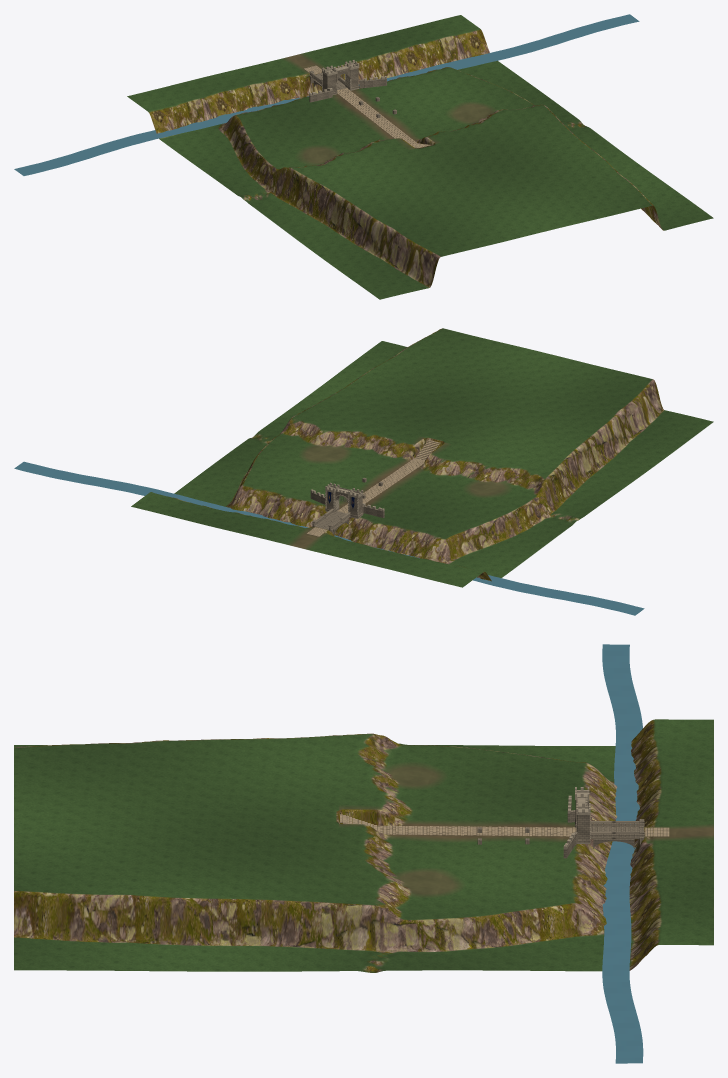
The model's file is ValoriaEntryZoneV5.glb.
3 views of the same model, one above another, from view 1: azimuth 30°, elevation 25°; view 2: azimuth 150°, elevation 25°; view 3: azimuth 270°, elevation 25° (orthographic). The views are drawn at different scales.
Visible parts, largest first — view 1: ValoriaEntryTerrainV5, V3_V2_VALORIA_RIVER_CONTINUOUS_RIPPLED_WATER, ENTRY_AUTHORED_STONE_ROAD_AND_TWELVE_TREADS; view 2: ValoriaEntryTerrainV5, V3_V2_VALORIA_RIVER_CONTINUOUS_RIPPLED_WATER, ENTRY_AUTHORED_STONE_ROAD_AND_TWELVE_TREADS; view 3: ValoriaEntryTerrainV5, V3_V2_VALORIA_RIVER_CONTINUOUS_RIPPLED_WATER, ENTRY_AUTHORED_STONE_ROAD_AND_TWELVE_TREADS.
Boxes of the visible parts, box(x1,y1,x2,y2) form: ValoriaEntryTerrainV5: box(127, 15, 713, 299); V3_V2_VALORIA_RIVER_CONTINUOUS_RIPPLED_WATER: box(14, 14, 639, 175); ENTRY_AUTHORED_STONE_ROAD_AND_TWELVE_TREADS: box(304, 65, 430, 148); ValoriaEntryTerrainV5: box(131, 328, 713, 587); V3_V2_VALORIA_RIVER_CONTINUOUS_RIPPLED_WATER: box(14, 461, 644, 615); ENTRY_AUTHORED_STONE_ROAD_AND_TWELVE_TREADS: box(306, 440, 440, 536); ValoriaEntryTerrainV5: box(14, 719, 713, 972); V3_V2_VALORIA_RIVER_CONTINUOUS_RIPPLED_WATER: box(602, 644, 643, 1063); ENTRY_AUTHORED_STONE_ROAD_AND_TWELVE_TREADS: box(340, 814, 669, 836).
Size of the model in its own units: 166 by 11.66 by 118.
Materials: 8 (6 with a texture image).
